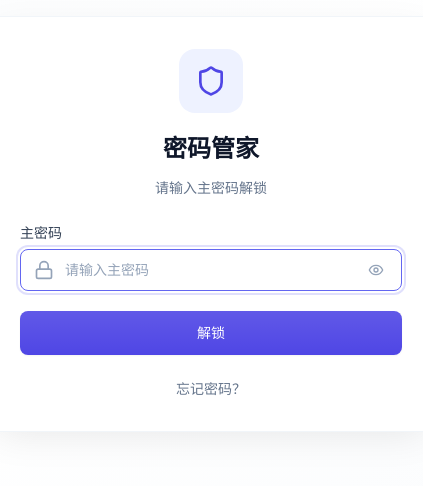
Test: LoginPage › form submission › should show error message on failed login
The width and height of the screenshot is (423, 486).
Type "wrongpassword" into the password field with placeholder "请输入主密码" at (211, 270), box left=20, top=249, right=402, bottom=291
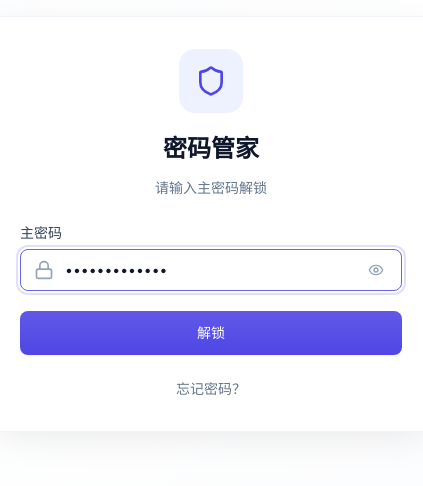
Click the button "解锁" at (211, 333), box left=20, top=311, right=402, bottom=355
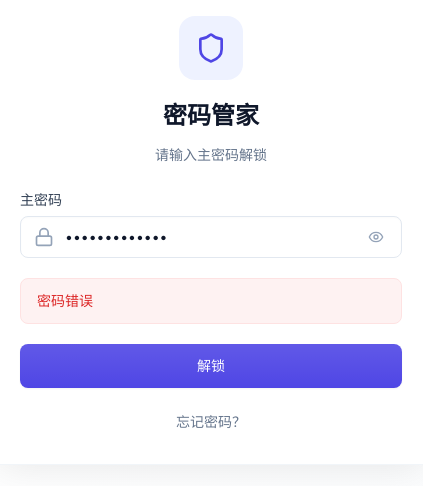
Expected: the text "密码错误" is shown, left=20, top=278, right=402, bottom=324
